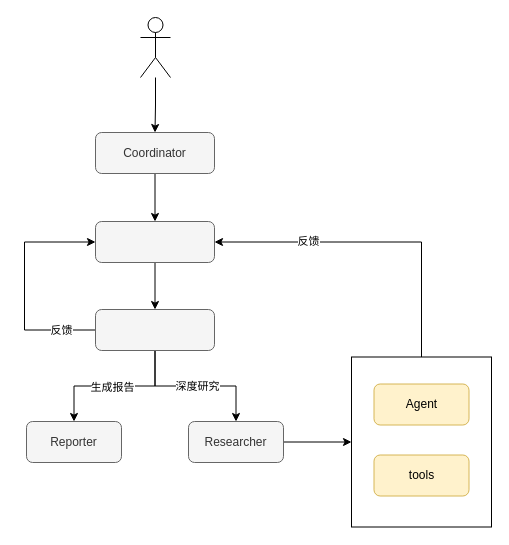
Image size: 509x545. Some labels were removed from this diagram. Each missing label, with the centre of its shape:
Human_Feedback: the point at 154,329
Planner: the point at 154,241
user: the point at 155,47
